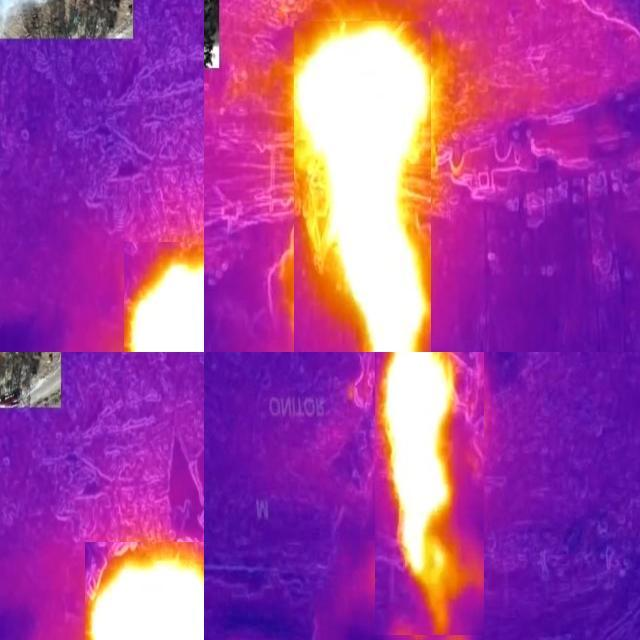fire: (295, 22, 432, 353), (376, 353, 485, 636), (86, 543, 205, 640), (125, 243, 205, 353)
